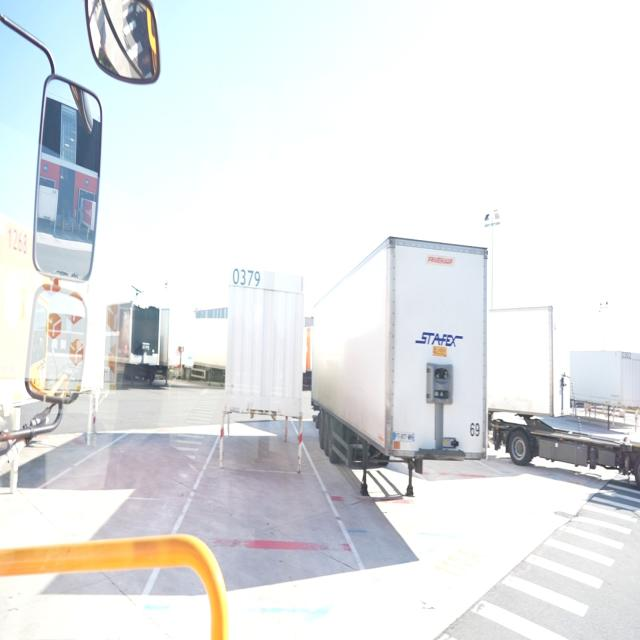Code: (230, 263, 263, 289)
